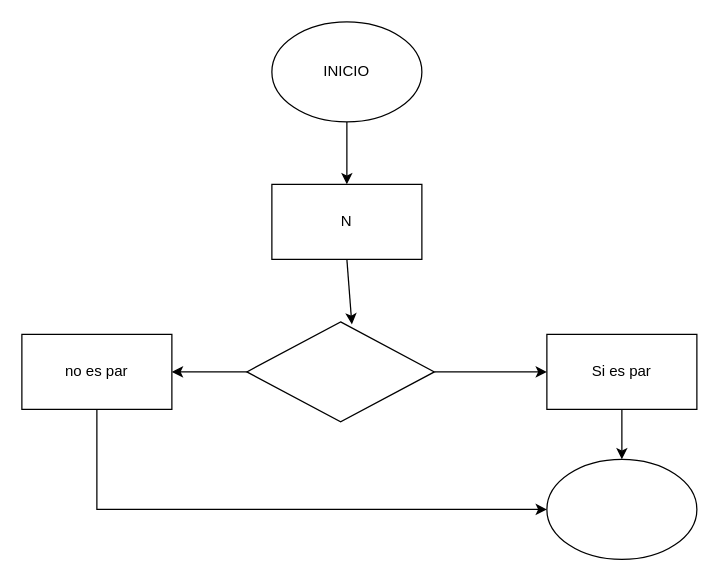
The diagram is 719 pixels wide and 581 high, and some of its shapes have lost their labels. The centre of each missing label's shape, as x and y in pixels:
"FIN" goes at point (621, 508).
"N mod 2=0?" goes at point (340, 371).
